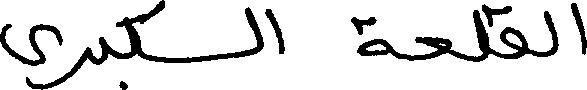X: (0, 19, 60, 89), (125, 0, 163, 89), (358, 12, 392, 60), (500, 1, 525, 63), (62, 34, 87, 87), (415, 32, 450, 64), (264, 4, 284, 58), (244, 2, 262, 61), (473, 0, 489, 66), (572, 0, 586, 59), (545, 6, 556, 61), (100, 32, 108, 68)
